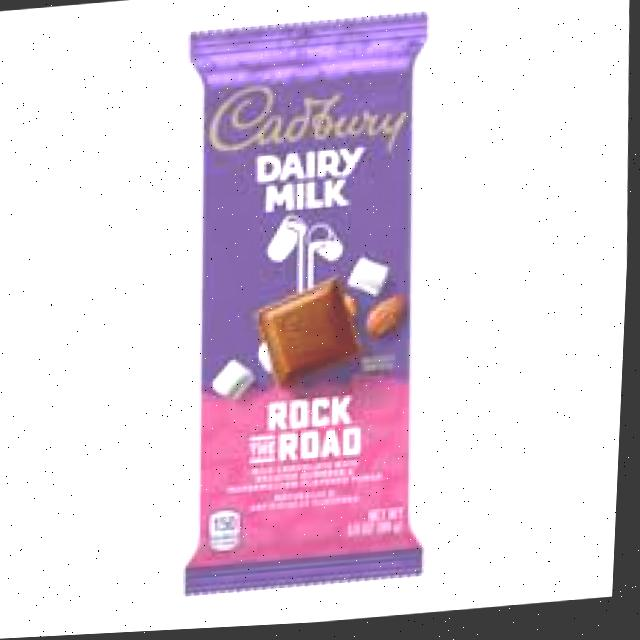cadbury: (168, 5, 449, 603)
